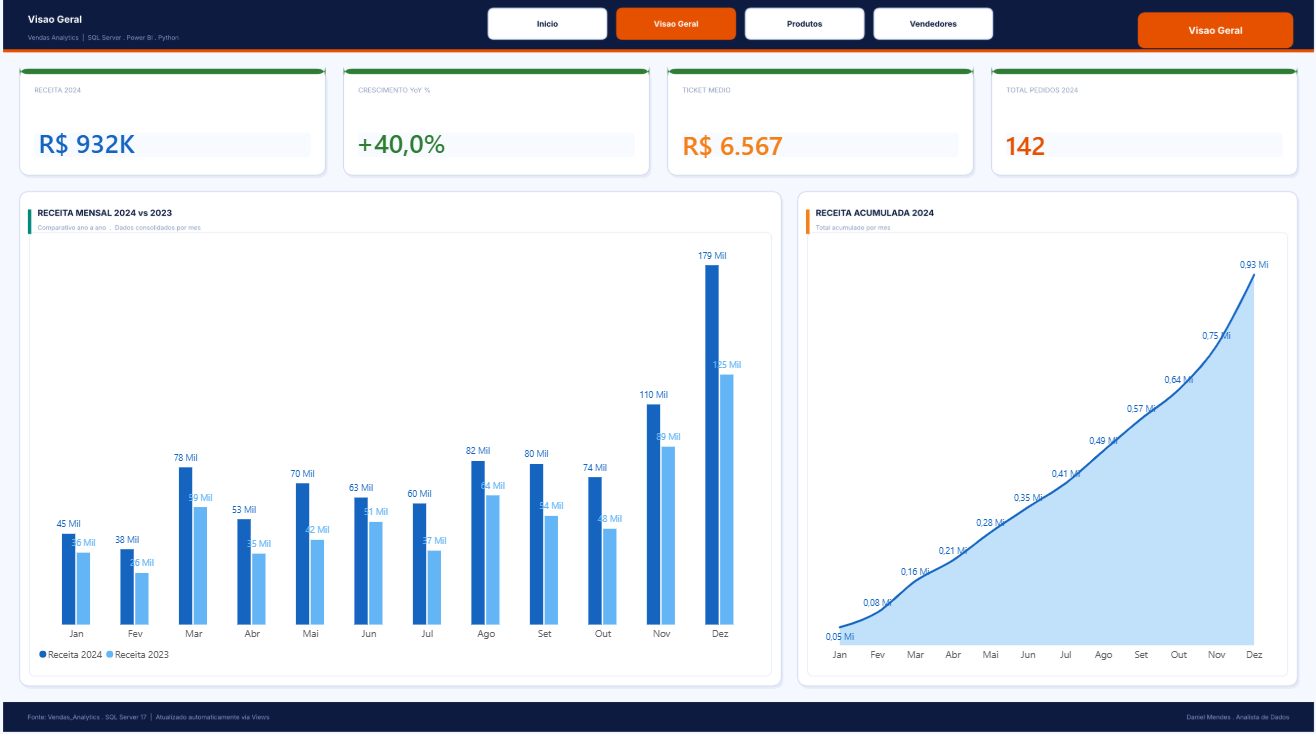

What the dashboard file says about the page in this screenshot:
{"tool":"powerbi","page":{"name":"Visão Geral","canvas":[1920,1080],"ordinal":1},"visuals":[{"type":"cardVisual","fields":{"Data":["_Medidas.Receita 2024 Fmt"]},"box":[47.1,175.6,413.2,83.5],"z":0},{"type":"cardVisual","fields":{"Data":["_Medidas.Crescimento YoY Fmt"]},"box":[507.4,175.6,413.2,83.5],"z":1000},{"type":"cardVisual","fields":{"Data":["_Medidas.Ticket Médio Fmt"]},"box":[978.4,177.7,413.2,83.5],"z":2000},{"type":"cardVisual","fields":{"Data":["_Medidas.Total Pedidos 2024"]},"box":[1447.3,177.7,413.2,83.5],"z":3000},{"type":"clusteredColumnChart","fields":{"Category":["vw_vendas_mensal_yoy.mes_nome"],"Y":["_Medidas.Receita 2024","_Medidas.Receita 2023"]},"box":[46.2,345.4,1073.5,642.3],"z":4000},{"type":"areaChart","fields":{"Category":["vw_vendas_mensal_yoy.mes_nome"],"Y":["_Medidas.Receita Acumulada 2024"]},"box":[1185.7,345.4,675.3,642.3],"z":5000},{"type":"actionButton","box":[714.9,22,169.4,41.8],"z":6000},{"type":"actionButton","box":[1084.5,22,169.4,41.8],"z":7000},{"type":"actionButton","box":[1273.7,22,173.8,41.8],"z":8000}]}

Visuals, with their boxes in screenshot pixels (x1, y1, x2, y2), scaled from the page's 1920x1080 canvas onto the 1316x734 screenshot:
cardVisual - _Medidas.Receita 2024 Fmt: box(32, 119, 315, 176)
cardVisual - _Medidas.Crescimento YoY Fmt: box(348, 119, 631, 176)
cardVisual - _Medidas.Ticket Médio Fmt: box(671, 121, 954, 178)
cardVisual - _Medidas.Total Pedidos 2024: box(992, 121, 1275, 178)
clusteredColumnChart - vw_vendas_mensal_yoy.mes_nome x _Medidas.Receita 2024: box(32, 235, 767, 671)
areaChart - vw_vendas_mensal_yoy.mes_nome x _Medidas.Receita Acumulada 2024: box(813, 235, 1276, 671)
actionButton: box(490, 15, 606, 43)
actionButton: box(743, 15, 859, 43)
actionButton: box(873, 15, 992, 43)
